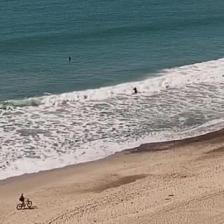surfer: (68, 57, 70, 61)
